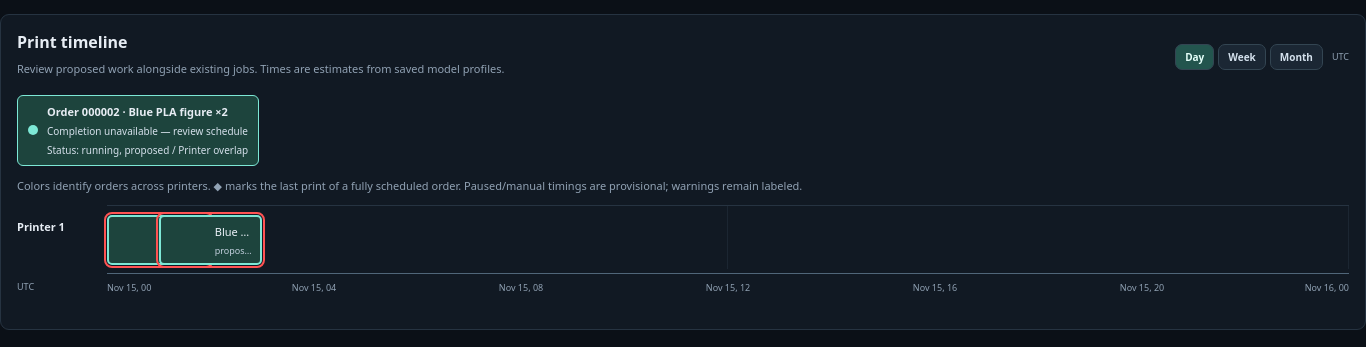
Test: calendar view controls and overlapping printer allocations are visible
The image size is (1366, 347).
Expected: the text "Status: running, proposed / Printer overlap" is shown, [47, 142, 248, 156]
Click the button "Week" at (1242,57), box [1218, 44, 1266, 70]
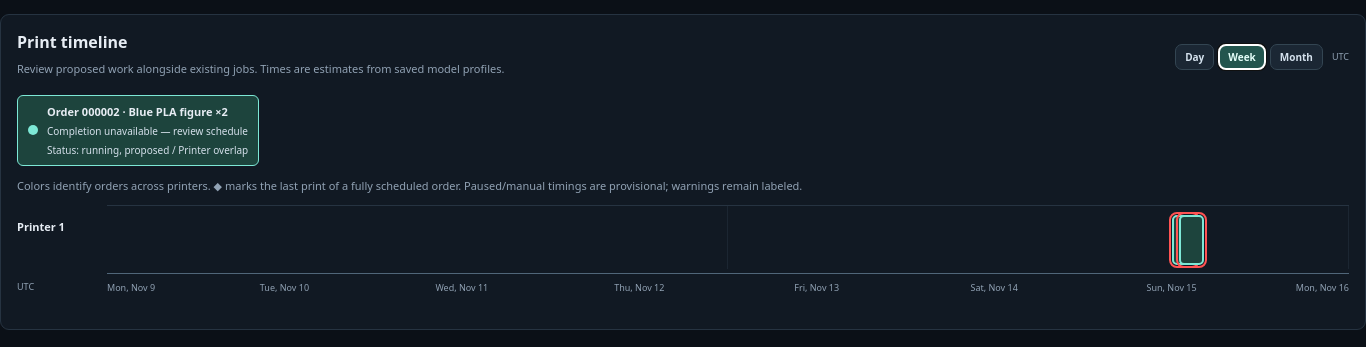
Expected: the element named "Calendar axis" shows "Nov", [107, 281, 155, 294]
Click the button "Month" at (1296,57), box [1270, 44, 1323, 70]
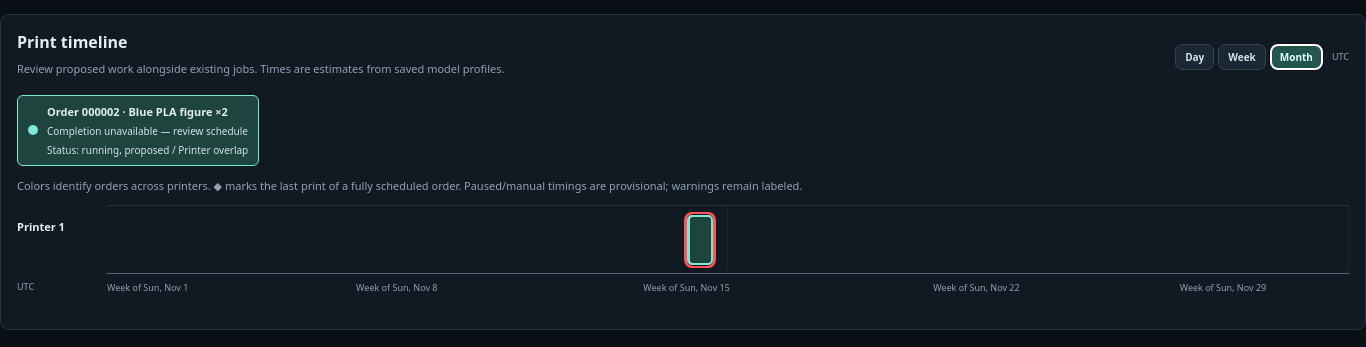
Result: the element named "Calendar axis" shows "Week of" at [107, 281, 188, 294]
